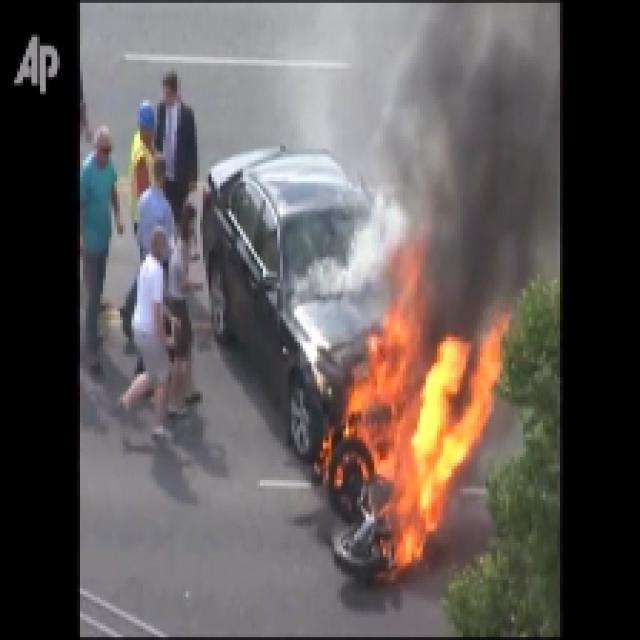Fire: (372, 343, 482, 518)
Smoke: (414, 31, 542, 306)
